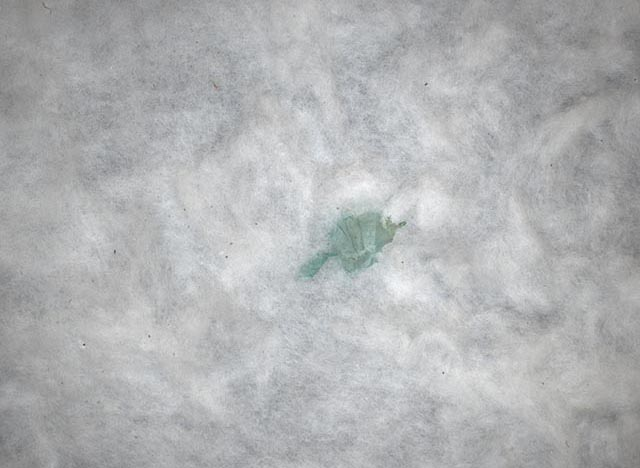plastic film: (294, 208, 406, 277)
